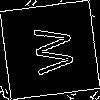W: (24, 25, 75, 78)
